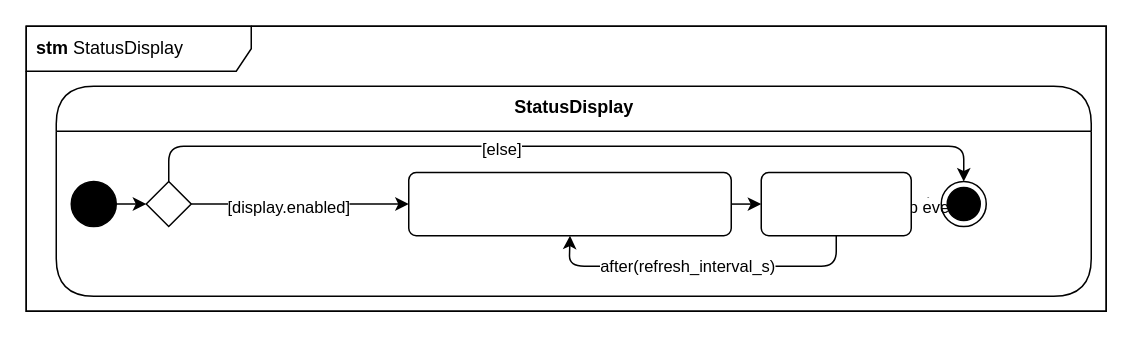
The diagram is 1133 pixels wide and 338 high, and some of its shapes have lost their labels. The centre of each missing label's shape, as x and y in pixels:
Refreshing do / show_final(run_phase.get()): the point at 569,203
Waiting: the point at 835,203
